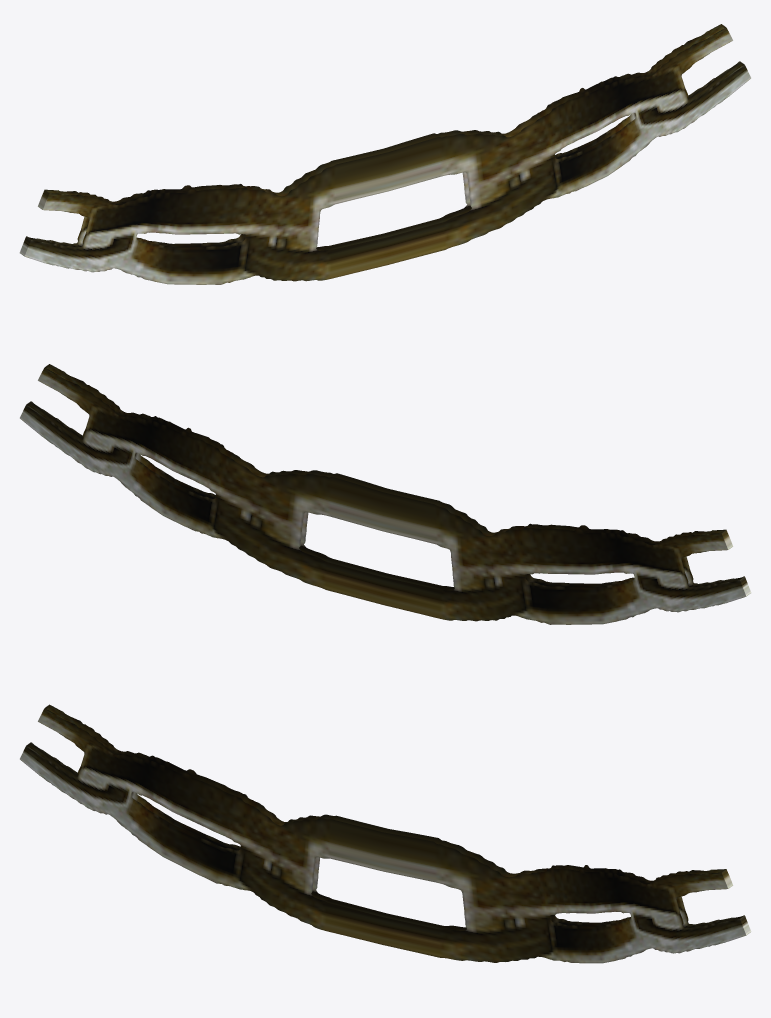
Rendered from Curtain_02.FBX.
The picture shows the model from 3 angles, top to bottom: view 1: azimuth 30°, elevation 25°; view 2: azimuth 150°, elevation 25°; view 3: azimuth 330°, elevation 25°; orthographic projection.
Parts seen in each view (by area): view 1: Curtain_02; view 2: Curtain_02; view 3: Curtain_02.
Boxes of the visible parts, left/top/right/bottom form: Curtain_02: left=19, top=24, right=750, bottom=284; Curtain_02: left=20, top=364, right=751, bottom=624; Curtain_02: left=20, top=704, right=751, bottom=963.
Size of the model in its own units: 4.92 by 1.23 by 0.0573.
